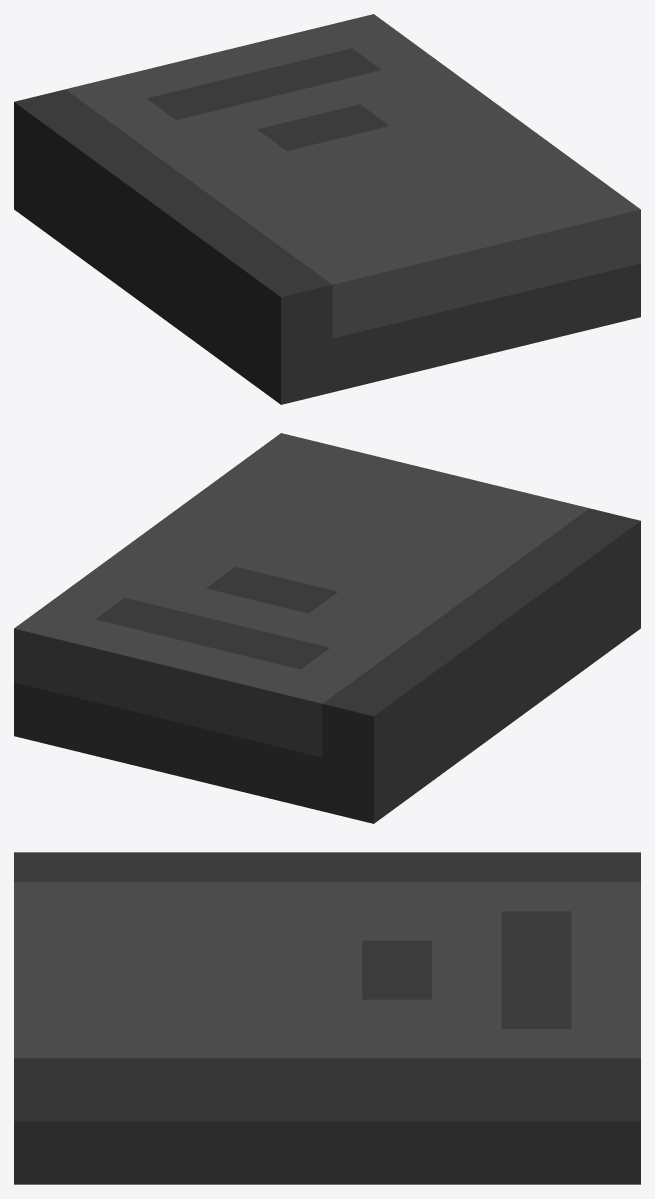
File: Office_Misc_Notebook.gltf
3 views of the same model, one above another, from view 1: azimuth 30°, elevation 25°; view 2: azimuth 150°, elevation 25°; view 3: azimuth 270°, elevation 25° (orthographic). The views are drawn at different scales.
Visible parts, largest first — view 1: Node; view 2: Node; view 3: Node.
Part boxes in pixels (bbox=[...]): Node: bbox=[14, 14, 640, 404]; Node: bbox=[14, 433, 640, 823]; Node: bbox=[14, 852, 640, 1184].
Size of the model in its own units: 0.7 by 0.2 by 0.9.
Materials: 1 (1 with a texture image).
